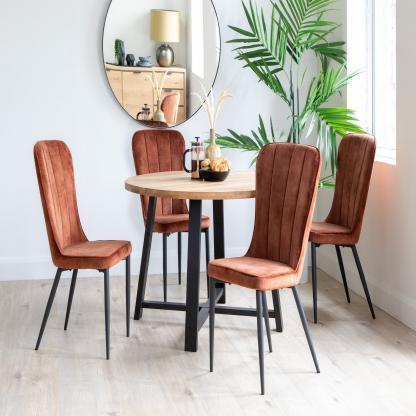chair: (203, 137, 329, 410), (22, 124, 131, 372), (307, 118, 389, 327), (126, 119, 207, 239)
light: (147, 5, 187, 68)
table: (123, 156, 256, 354)
